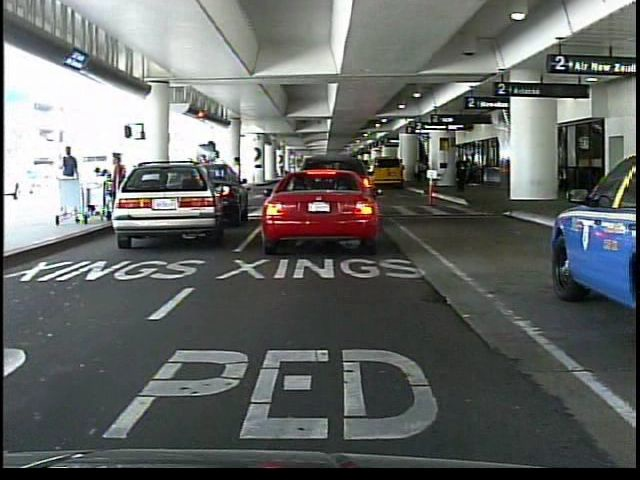person: (61, 144, 84, 215), (211, 146, 229, 223), (287, 152, 306, 205), (197, 152, 216, 204), (456, 154, 470, 193), (417, 154, 429, 187)
